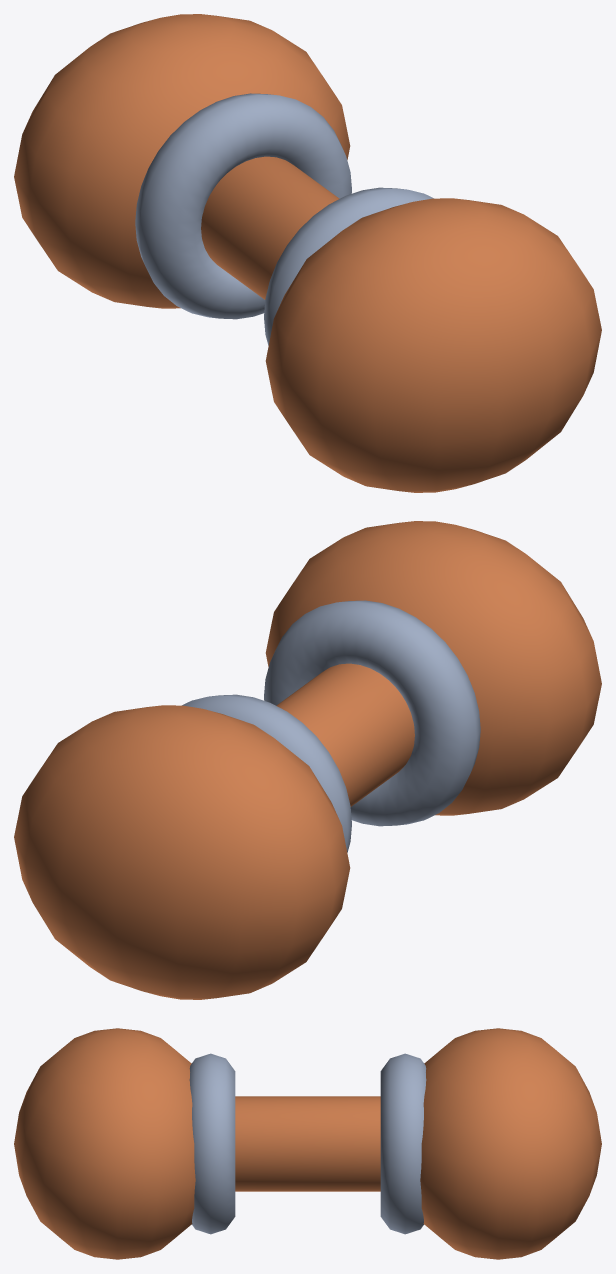
The model's file is pet_toy_dog.glb.
The picture shows the model from 3 angles, top to bottom: view 1: azimuth 30°, elevation 25°; view 2: azimuth 150°, elevation 25°; view 3: azimuth 270°, elevation 25°; orthographic projection. The views are drawn at different scales.
Visible parts, largest first — view 1: Dog toy knob.001, Dog toy knob, Dog toy knot, Dog toy shaft, Dog toy knot.001; view 2: Dog toy knob, Dog toy knob.001, Dog toy knot.001, Dog toy shaft, Dog toy knot; view 3: Dog toy knob, Dog toy knob.001, Dog toy shaft, Dog toy knot, Dog toy knot.001.
Part boxes in pixels (x1=…): Dog toy knob.001: x1=265, y1=198, x2=601, y2=492; Dog toy knob: x1=14, y1=14, x2=350, y2=308; Dog toy knot: x1=135, y1=93, x2=351, y2=319; Dog toy shaft: x1=201, y1=156, x2=339, y2=299; Dog toy knot.001: x1=264, y1=187, x2=433, y2=345; Dog toy knob: x1=14, y1=705, x2=350, y2=999; Dog toy knob.001: x1=265, y1=521, x2=601, y2=815; Dog toy knot.001: x1=264, y1=600, x2=480, y2=826; Dog toy shaft: x1=276, y1=663, x2=414, y2=806; Dog toy knot: x1=182, y1=694, x2=351, y2=852; Dog toy knob: x1=420, y1=1028, x2=601, y2=1259; Dog toy knob.001: x1=14, y1=1028, x2=195, y2=1259; Dog toy shaft: x1=235, y1=1096, x2=380, y2=1191; Dog toy knot: x1=380, y1=1053, x2=426, y2=1234; Dog toy knot.001: x1=189, y1=1053, x2=235, y2=1234.
Bounding box in the file's own units: 0.124 × 0.104 × 0.272.
